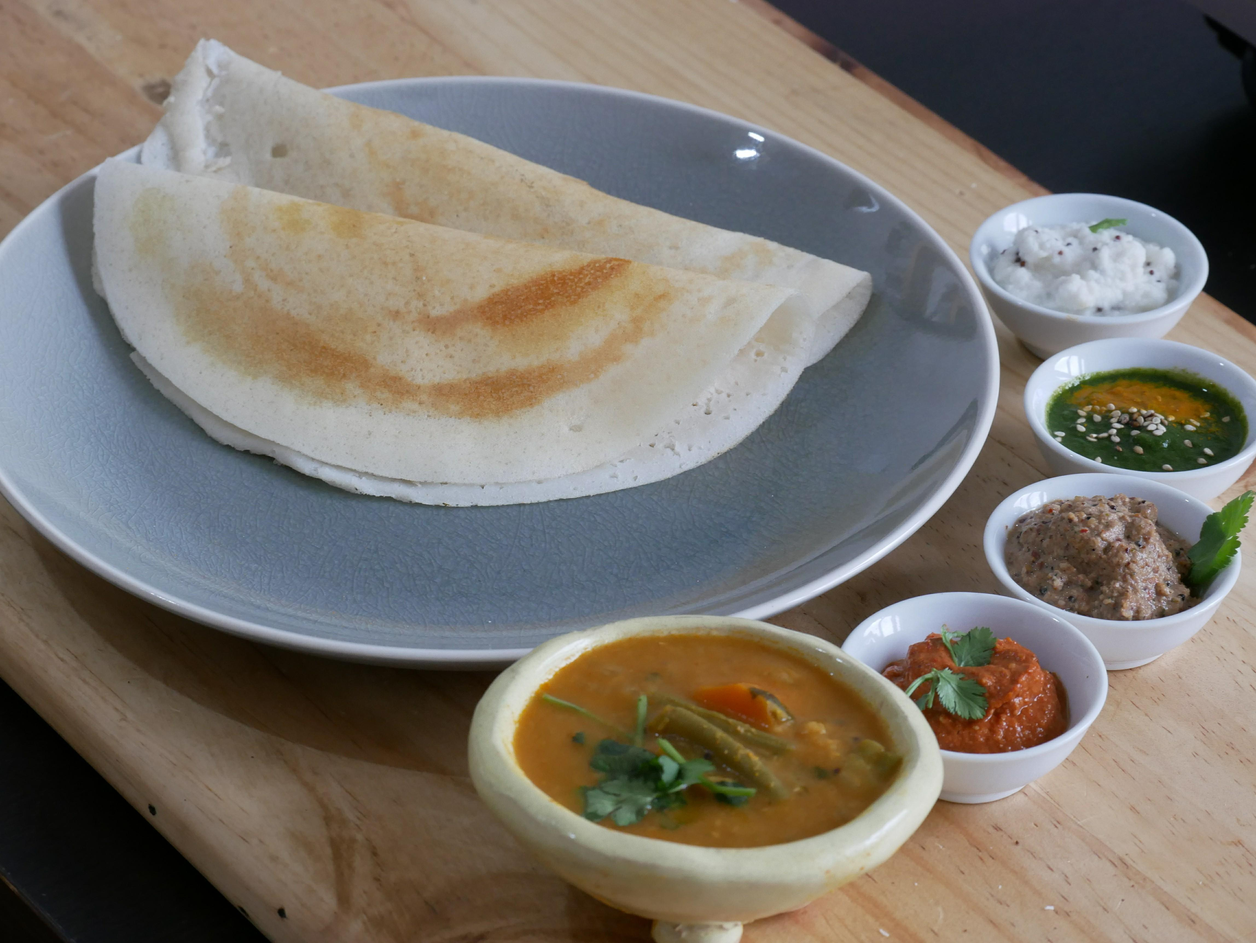CoconutChutney: (988, 214, 1180, 320)
Dosa: (91, 156, 807, 503), (162, 41, 869, 369)
